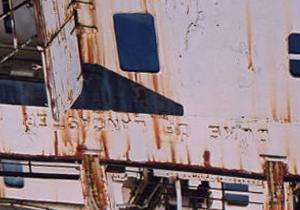rust: (57, 108, 113, 204), (148, 71, 187, 164), (32, 2, 57, 104), (70, 3, 105, 69), (261, 158, 288, 209), (269, 87, 297, 126), (243, 4, 255, 68), (201, 150, 216, 171), (22, 103, 29, 132)
